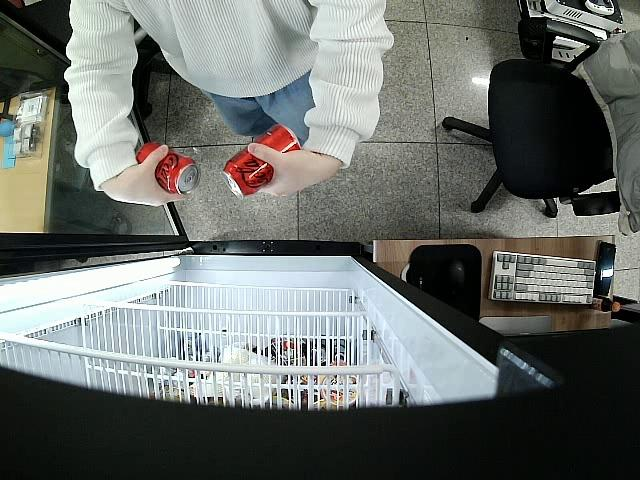00_hand: (101, 144, 189, 209), (248, 141, 333, 199)
11_cocaColaZero: (223, 125, 301, 199), (134, 144, 201, 197)
